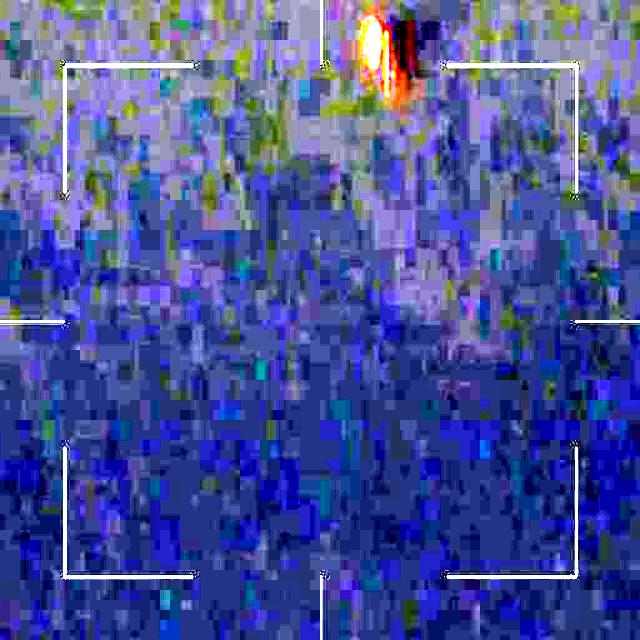bird: (361, 10, 440, 105)
